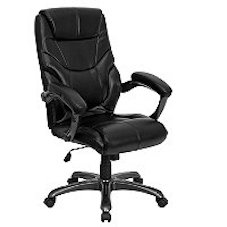chair: (16, 5, 195, 225)
